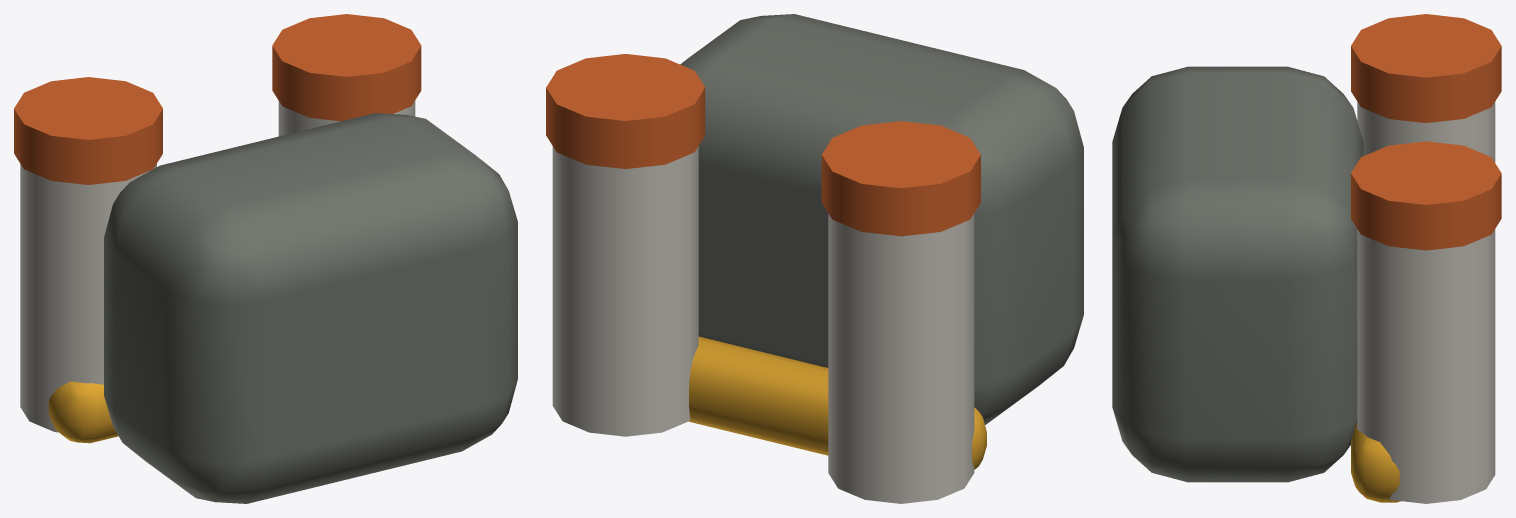
Rendered from mo_capacitor.glb.
3 renders of one model, left to right at view 1: azimuth 30°, elevation 25°; view 2: azimuth 150°, elevation 25°; view 3: azimuth 270°, elevation 25°, orthographic. The views are drawn at different scales.
Parts seen in each view (by area): view 1: mo_capacitor; view 2: mo_capacitor; view 3: mo_capacitor.
Part boxes in pixels (box(x1,y1,x2,y2)): mo_capacitor: box(14, 14, 517, 503); mo_capacitor: box(546, 14, 1083, 503); mo_capacitor: box(1112, 14, 1501, 503).
Size of the model in its own units: 0.1548 by 0.1182 by 0.1333.
